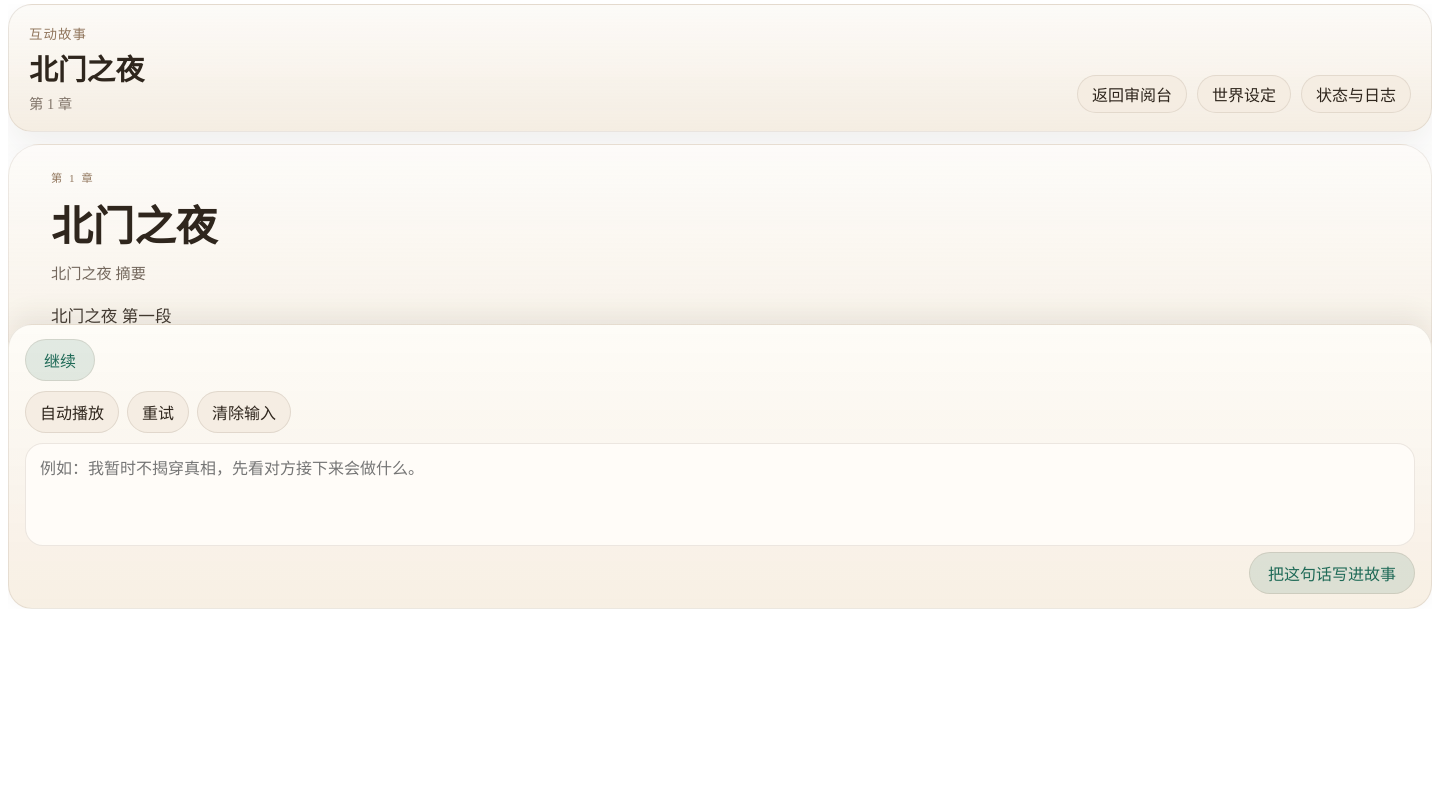
Test: RuntimeStageShell › appends the next scene into longform history instead of replacing the previous scene
expect the heading "北门之夜" below "互动故事" is shown: met, box [29, 47, 144, 88]
Click the button "继续".
click(60, 360)  # box [25, 339, 95, 381]
(page scrolled)
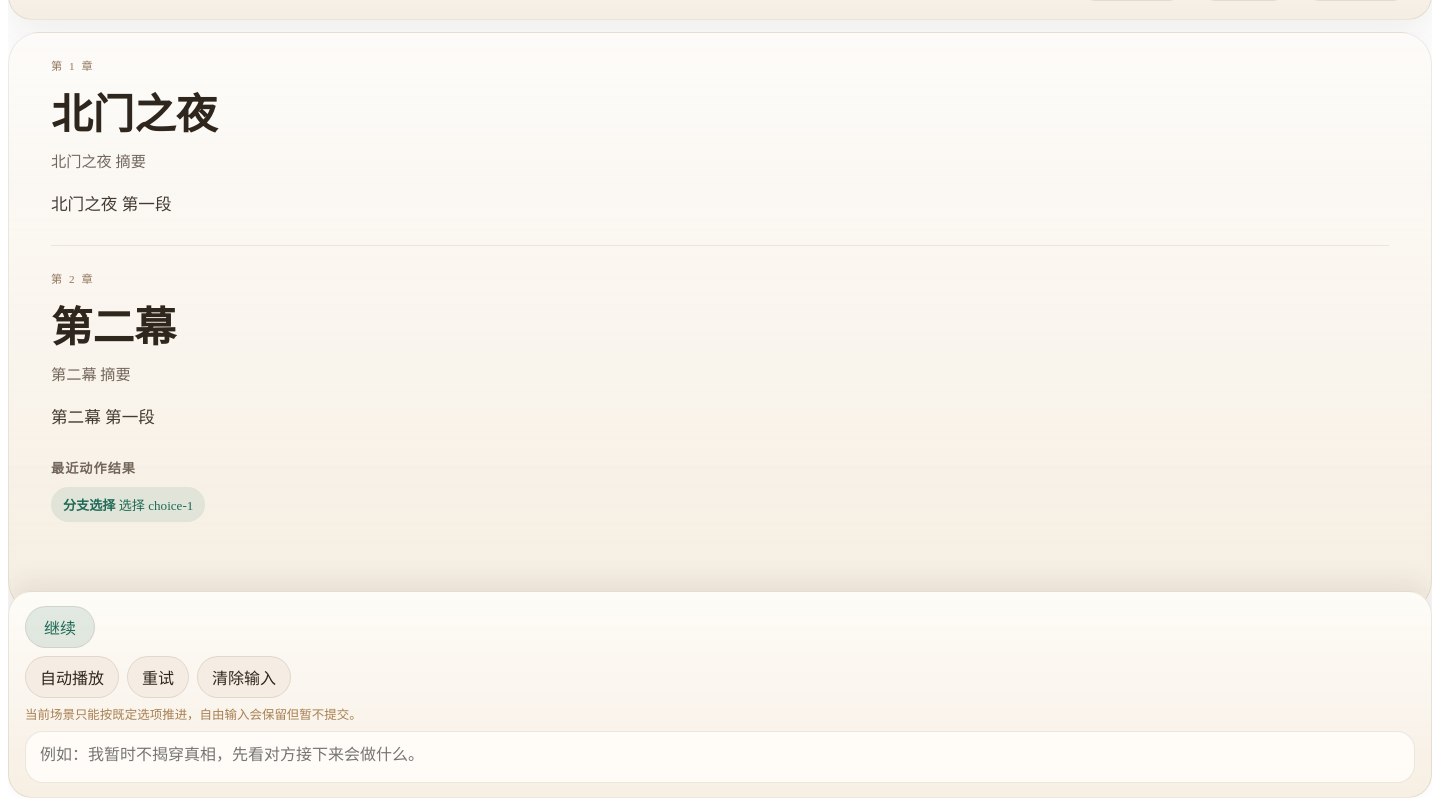
expect the element showing "第 1 章 北门之夜 北门之夜 摘要 北门之夜 第一段" is shown: met, box [51, 57, 1389, 246]
expect the element showing "第 2 章 第二幕 第二幕 摘要 第二幕 第一段" is shown: met, box [51, 273, 176, 427]
